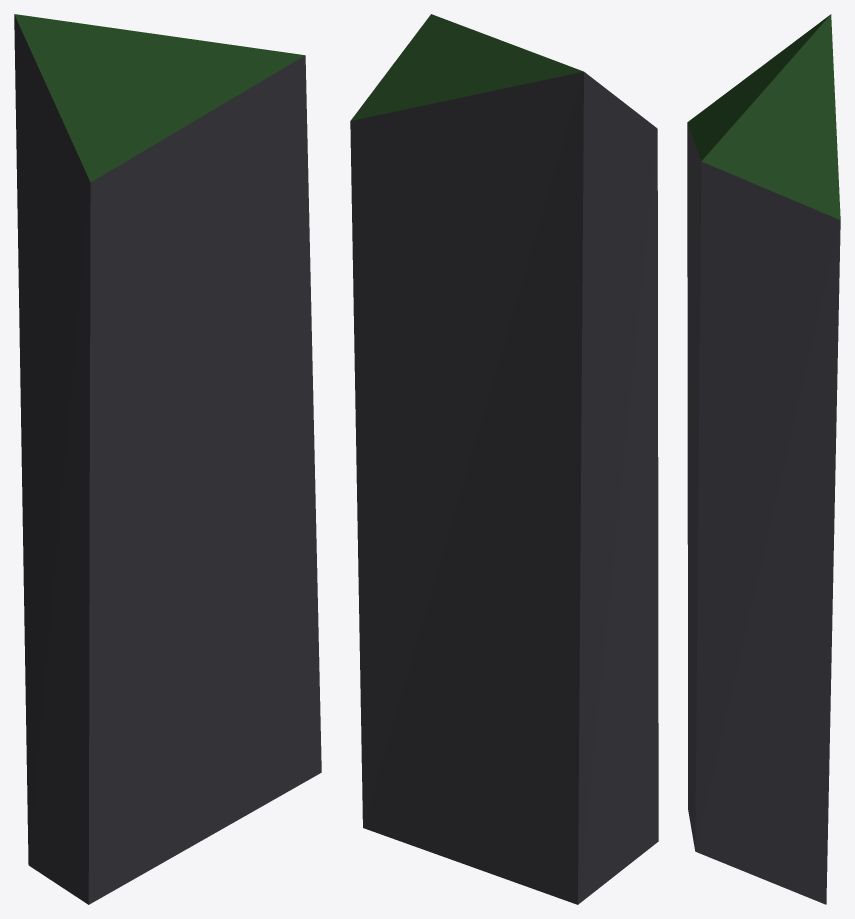
The model's file is stone_1.gltf.
The picture shows the model from 3 angles, left to right: view 1: azimuth 30°, elevation 25°; view 2: azimuth 150°, elevation 25°; view 3: azimuth 270°, elevation 25°; orthographic projection. The views are drawn at different scales.
Size of the model in its own units: 1.33 by 4.56 by 0.7816.
